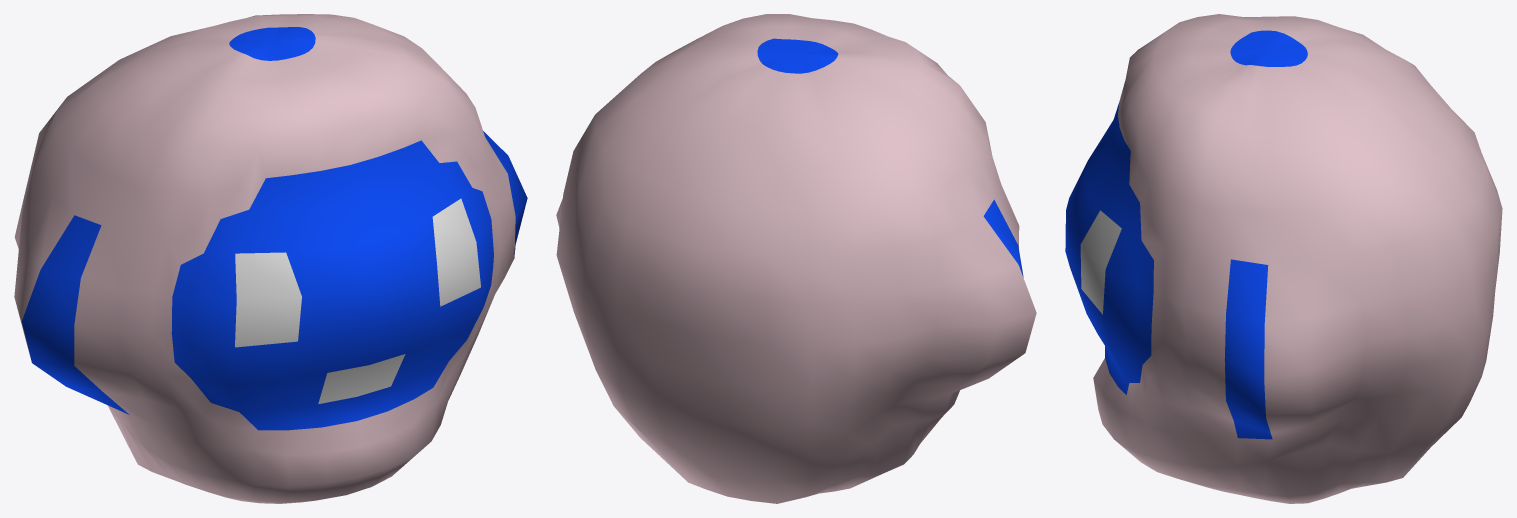
The model's file is head-b.gltf.
3 views of the same model, side by side, from view 1: azimuth 30°, elevation 25°; view 2: azimuth 150°, elevation 25°; view 3: azimuth 270°, elevation 25° (orthographic). The views are drawn at different scales.
Parts seen in each view (by area): view 1: Sphere; view 2: Sphere; view 3: Sphere.
Part boxes in pixels (x1,y1,x2,y2): Sphere: (14,14,527,503); Sphere: (556,14,1036,503); Sphere: (1065,14,1502,503).
Size of the model in its own units: 2.76 by 2.33 by 2.13.
